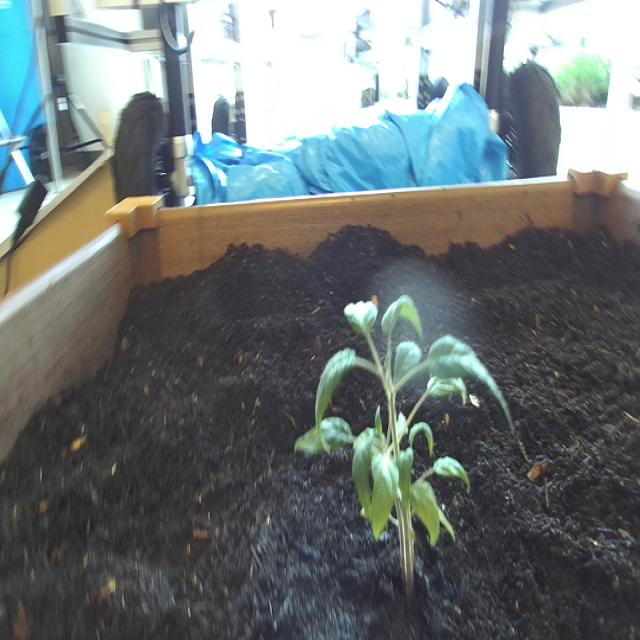Healthy: (291, 287, 517, 610)
